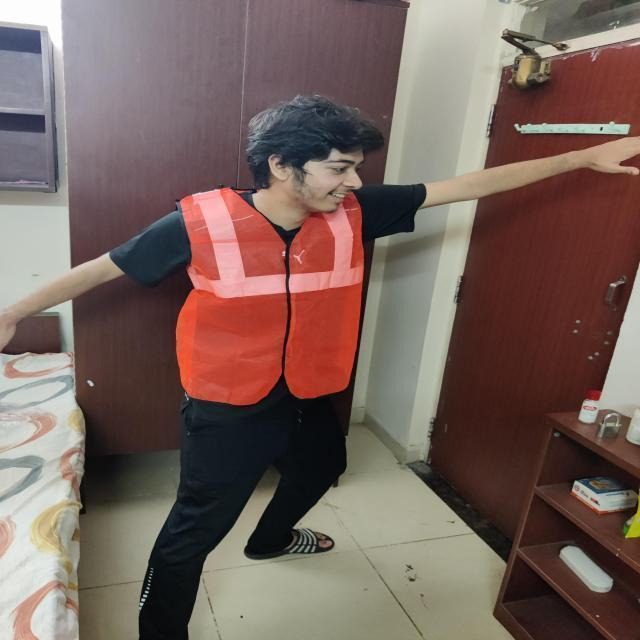no-helmet: (246, 94, 392, 180)
vest: (171, 182, 374, 412)
